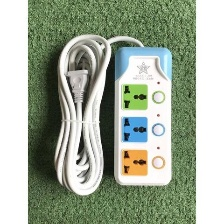three_eye_plug: (110, 42, 175, 190)
